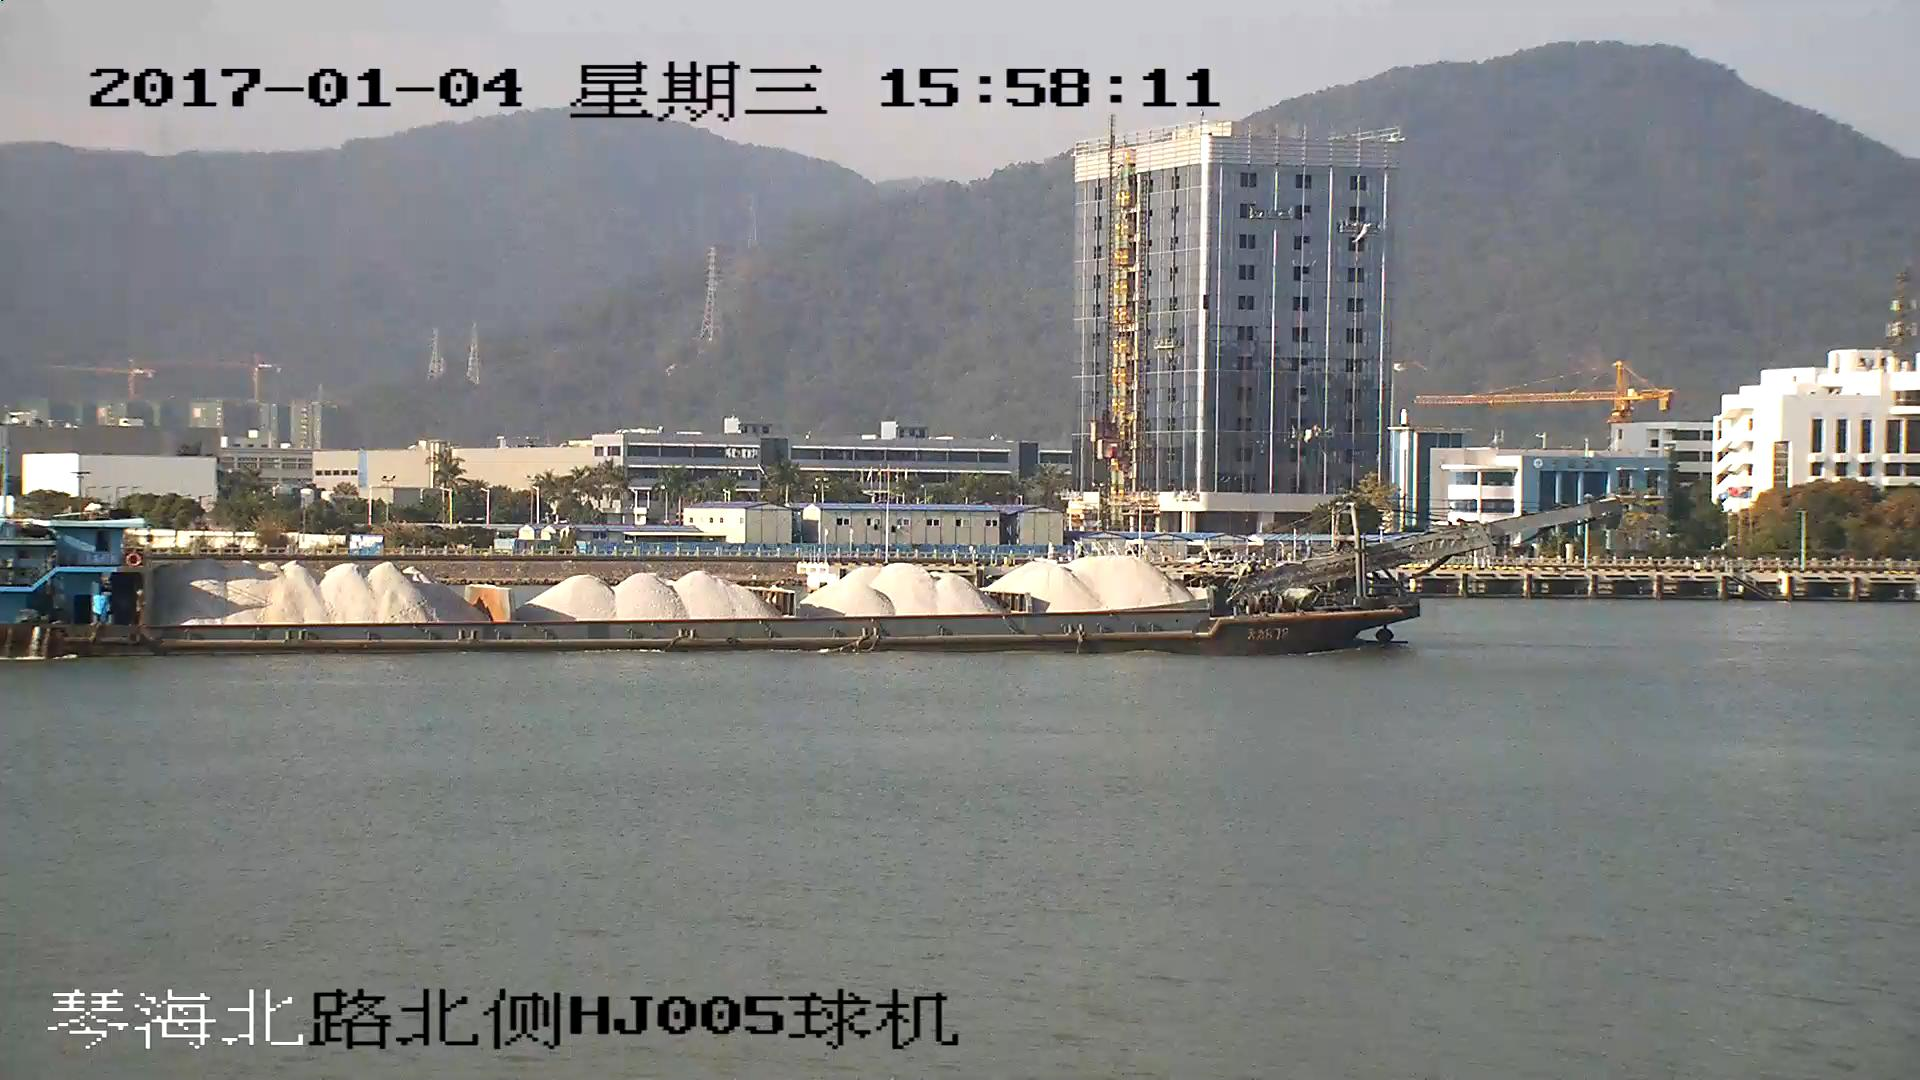ore carrier: (1, 501, 1604, 658)
